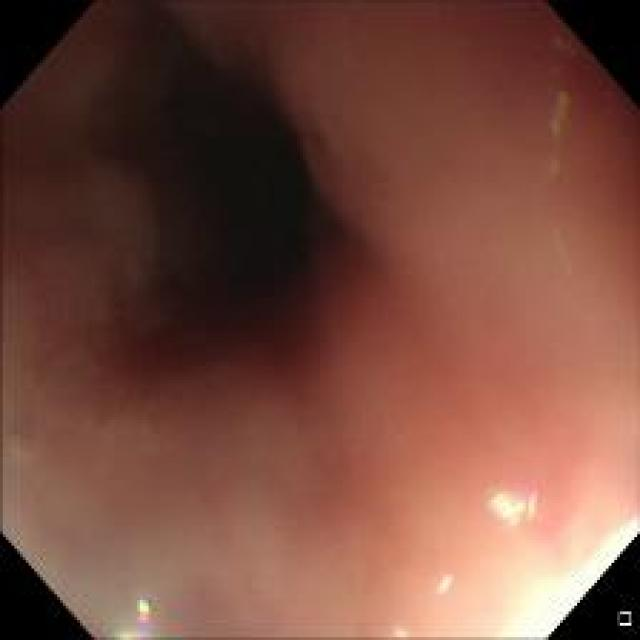blur: (4, 2, 635, 638)
color misalignment: (542, 29, 575, 180), (481, 486, 552, 532), (120, 589, 162, 635), (438, 565, 459, 596), (386, 621, 419, 638)
contrast: (89, 55, 358, 361)
saturation: (492, 498, 636, 636)
